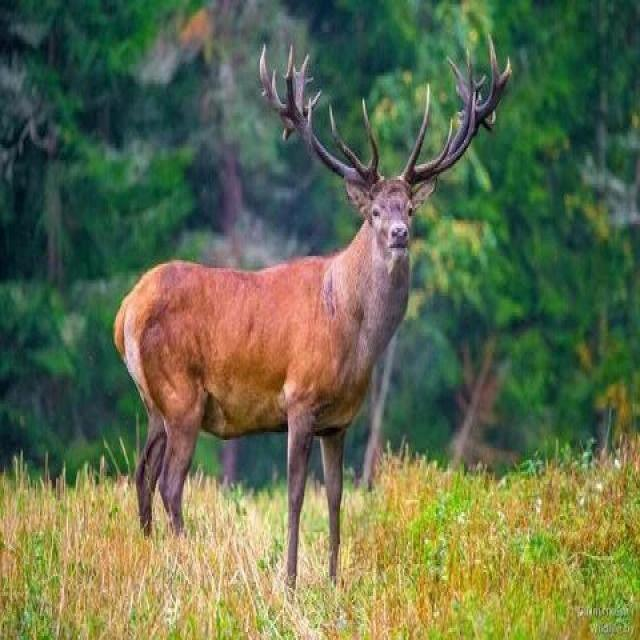deer: (69, 57, 542, 572)
